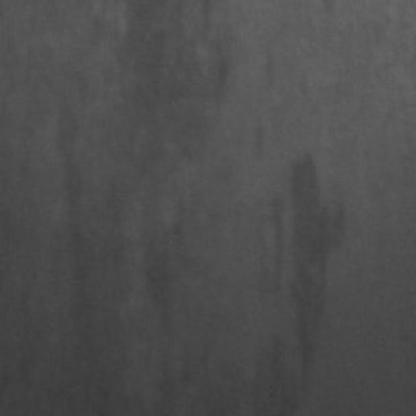inclusion: (40, 83, 110, 354), (266, 147, 344, 376), (141, 214, 200, 337), (183, 18, 225, 120)
